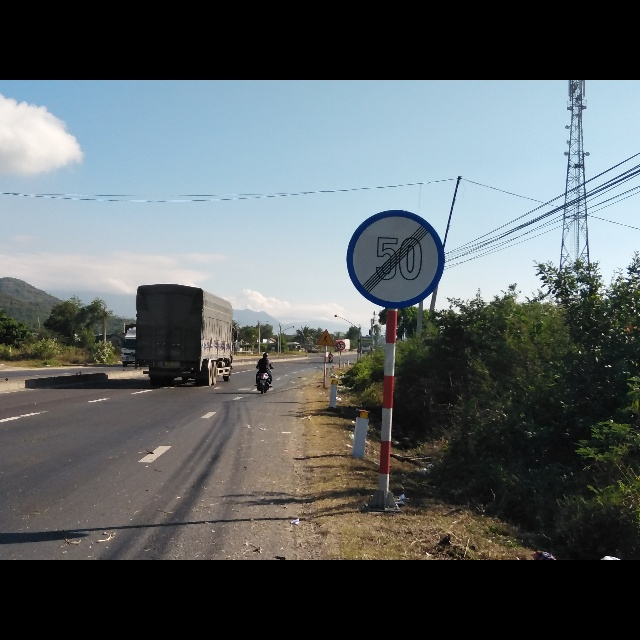Hết hạn chế tốc độ tối đa 50km/h: (344, 205, 447, 309)
